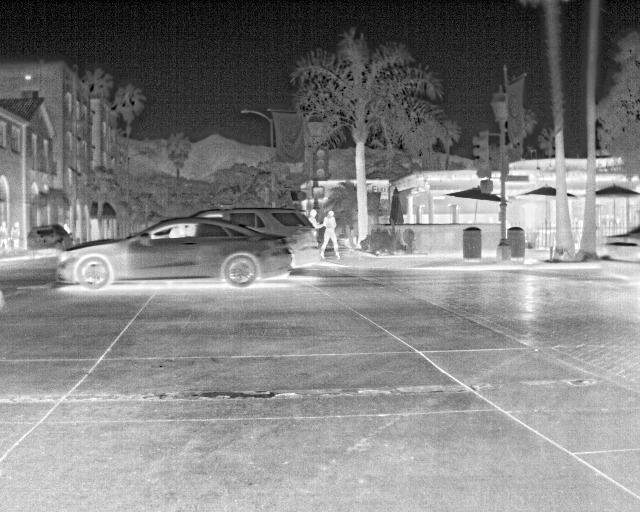bicycle: (54, 214, 293, 287), (182, 207, 320, 271), (25, 224, 74, 259)
empty: (319, 210, 345, 261), (8, 220, 22, 250), (0, 220, 10, 257), (305, 207, 319, 228)
